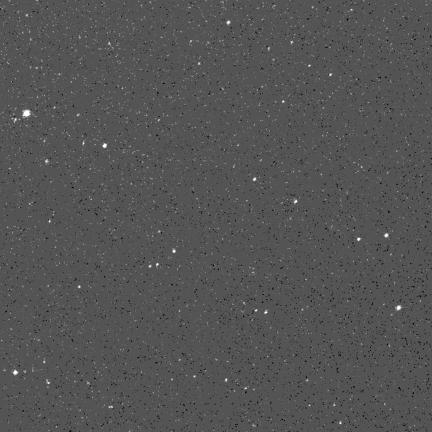blob: (23, 110, 31, 117), (13, 370, 18, 375), (384, 233, 389, 238), (396, 306, 402, 310), (329, 73, 333, 77), (172, 249, 176, 253), (253, 178, 257, 182), (103, 144, 107, 148), (264, 311, 268, 315), (225, 378, 228, 383), (294, 199, 297, 204), (78, 285, 81, 289), (308, 65, 312, 68), (45, 160, 48, 164), (255, 309, 258, 313), (357, 238, 361, 241), (149, 265, 152, 269), (282, 100, 285, 104), (227, 21, 230, 25)
